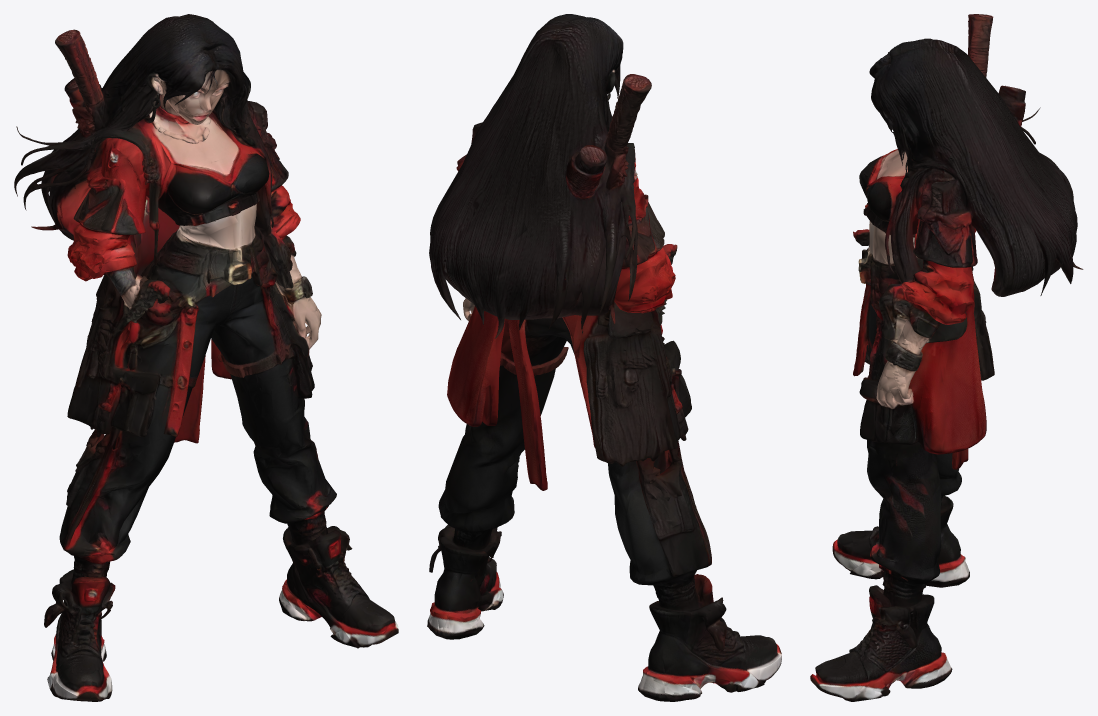
File: ember.glb
3 views of the same model, side by side, from view 1: azimuth 30°, elevation 25°; view 2: azimuth 150°, elevation 25°; view 3: azimuth 270°, elevation 25° (orthographic). The views are drawn at different scales.
Visible parts, largest first — view 1: model; view 2: model; view 3: model.
Part boxes in pixels (box(x1,y1,x2,y2)): model: box(14, 14, 398, 701); model: box(427, 14, 781, 701); model: box(810, 14, 1083, 701).
Bounding box in the file's own units: 1.03 × 1.9 × 0.8007.
Materials: 1 (1 with a texture image).
